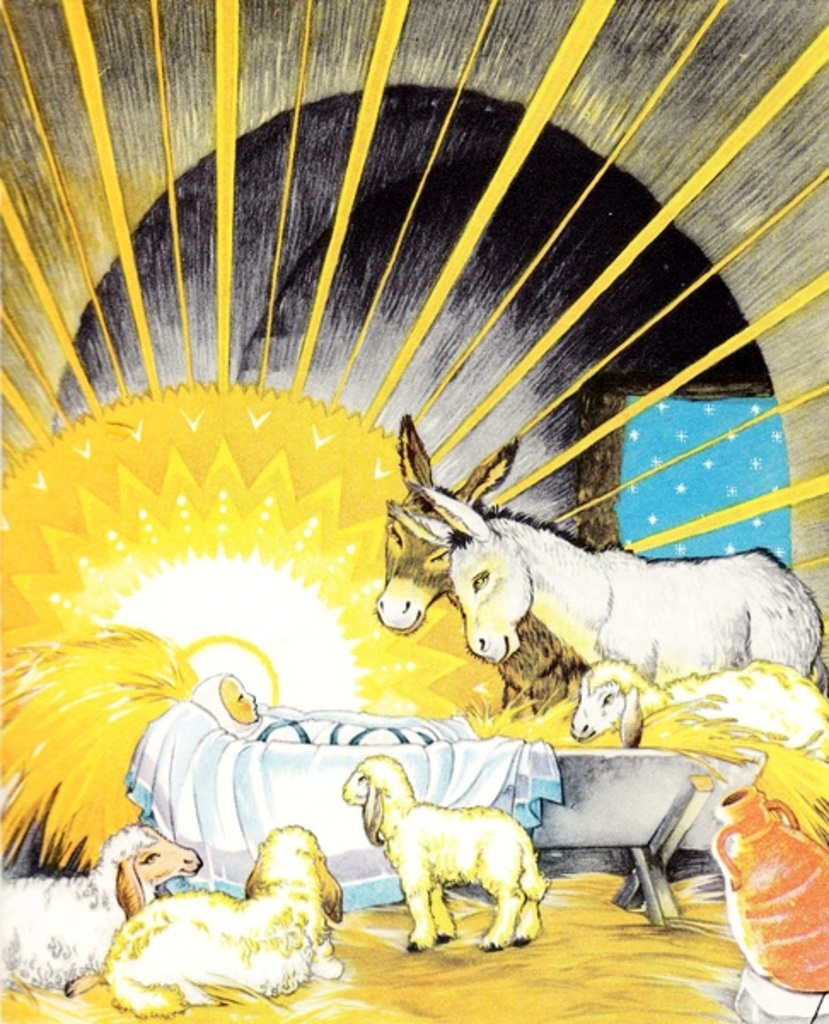Animal: (381, 482, 820, 685), (374, 410, 586, 709), (60, 824, 342, 1018), (339, 751, 547, 953), (0, 822, 200, 991), (564, 656, 826, 759)
